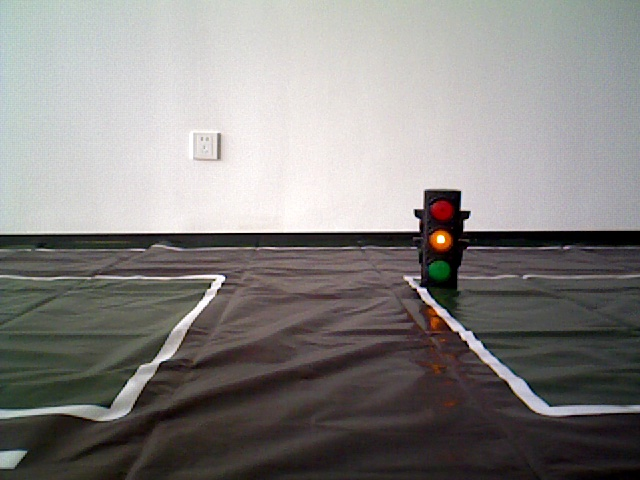yellow: (422, 185, 459, 286)
